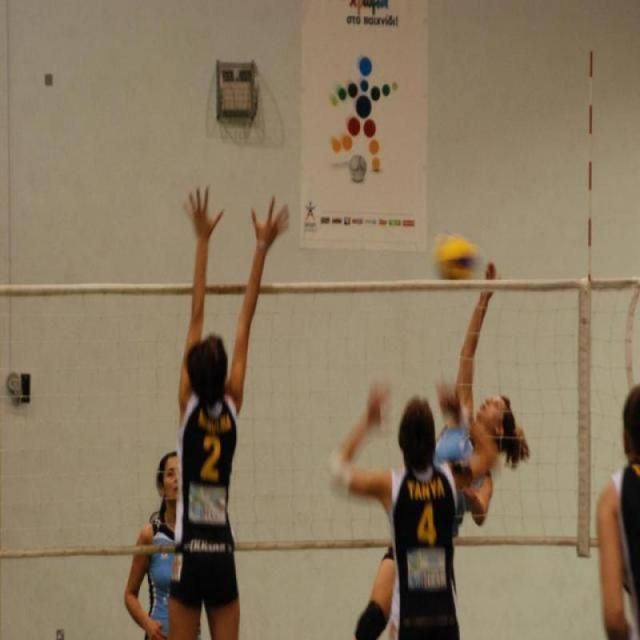volleyball: (429, 228, 479, 278)
